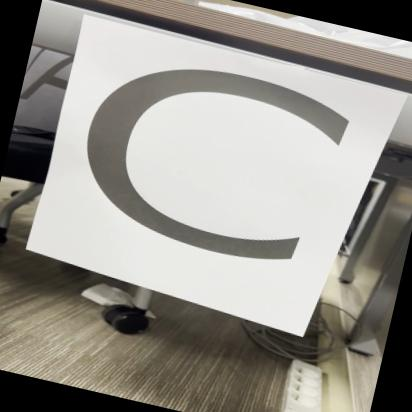seat: (31, 16, 395, 345)
